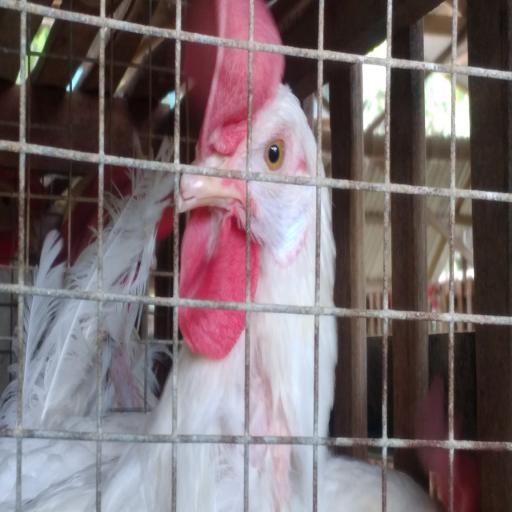healthy: (185, 58, 308, 331)
